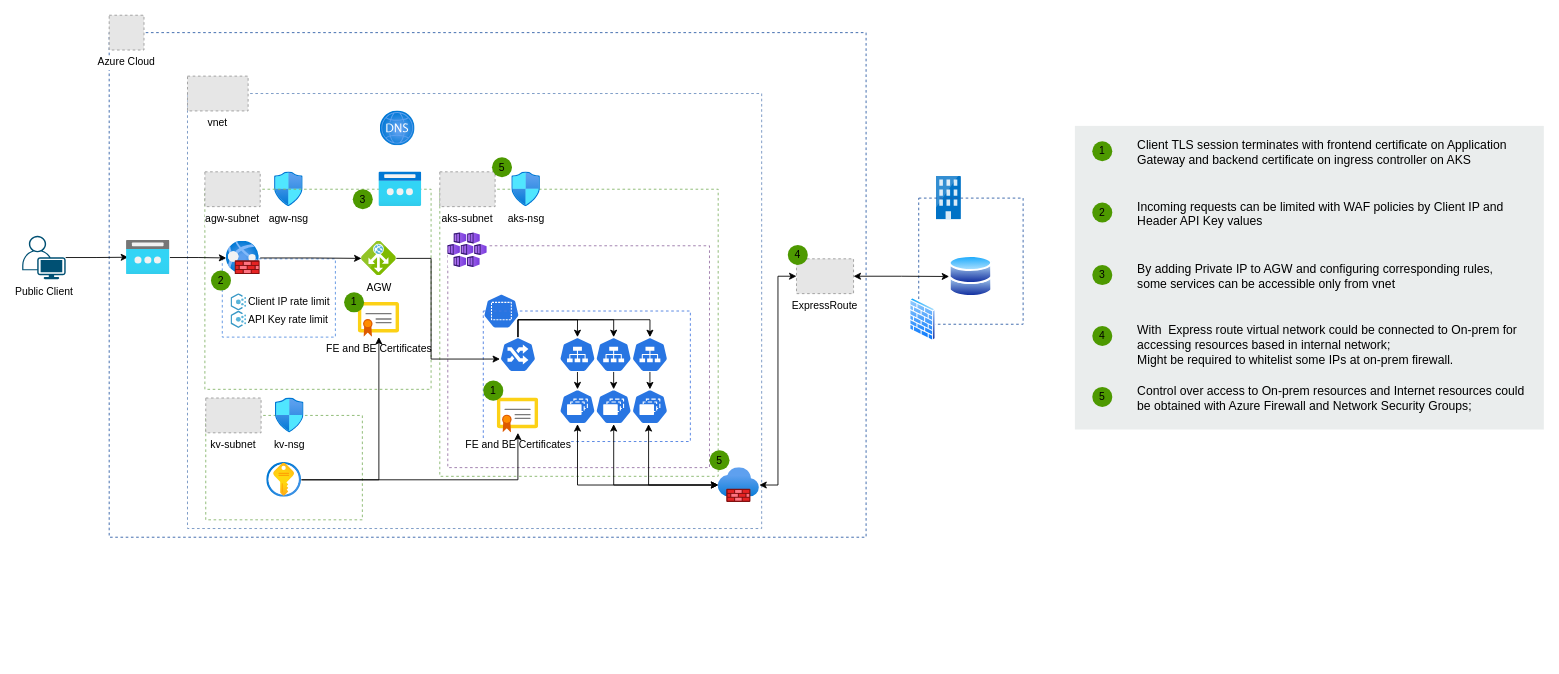
Some shapes in this 1559 by 674 pixel diagram are drawn without their labels. Grey dashed boxes stand in for pictures. The shapes that lost their labels are listed below. From the top down, each one's centre as x and y in pixels, then its label:
At [397,127]: "Private DNS".
At [399,188]: "Private IP".
At [948,197]: "On-prem".
At [147,257]: "Public IP".
At [243,257]: "WAF".
At [467,249]: "AKS".
At [922,319]: "Furewall".
At [517,354]: "AGIC".
At [283,479]: "kv".
At [738,484]: "Firewall".
